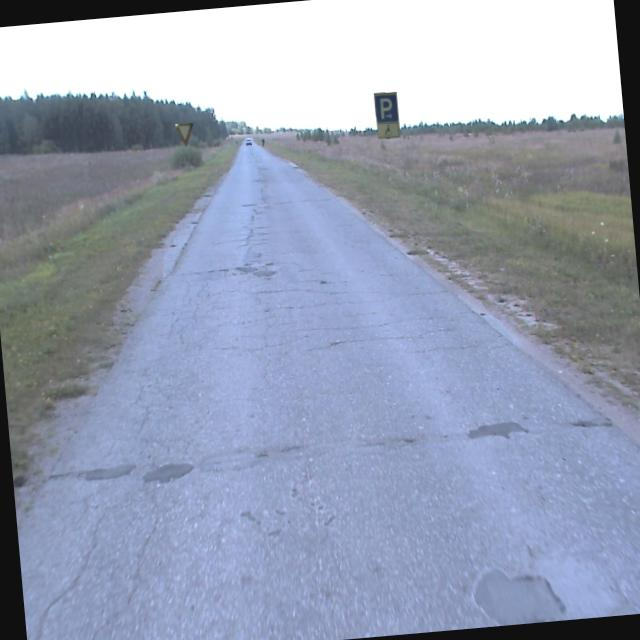road: (17, 142, 640, 640)
